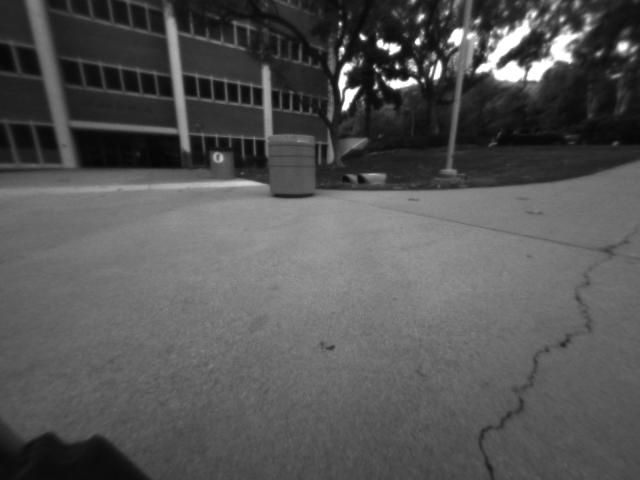trashcan: (263, 125, 321, 207), (201, 141, 240, 180)
